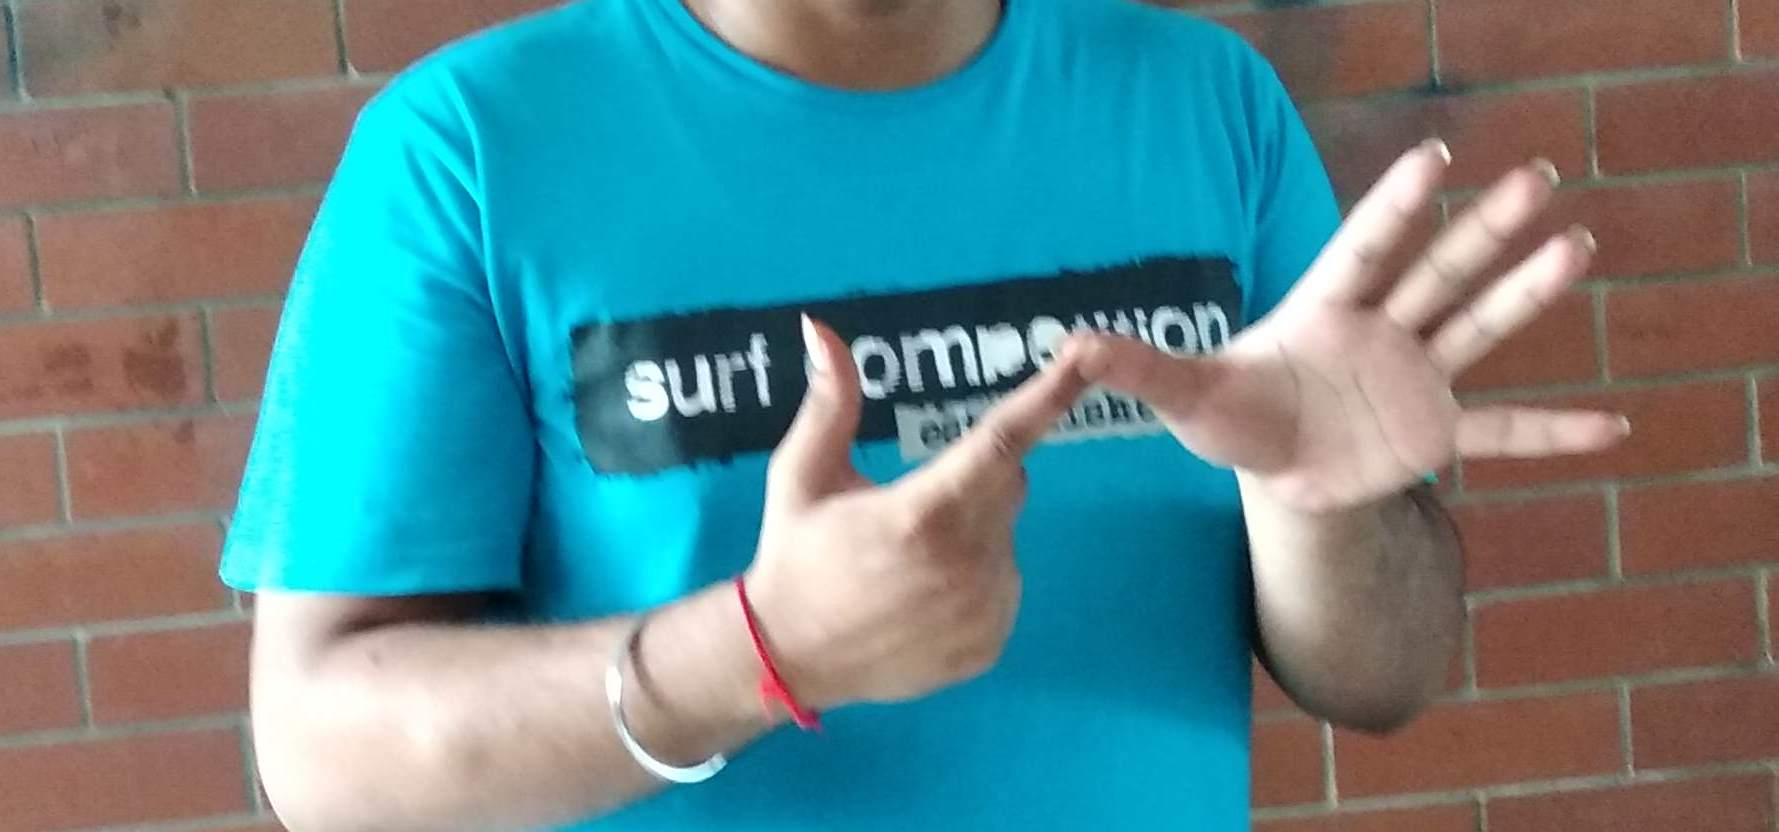a: (777, 131, 1551, 663)
